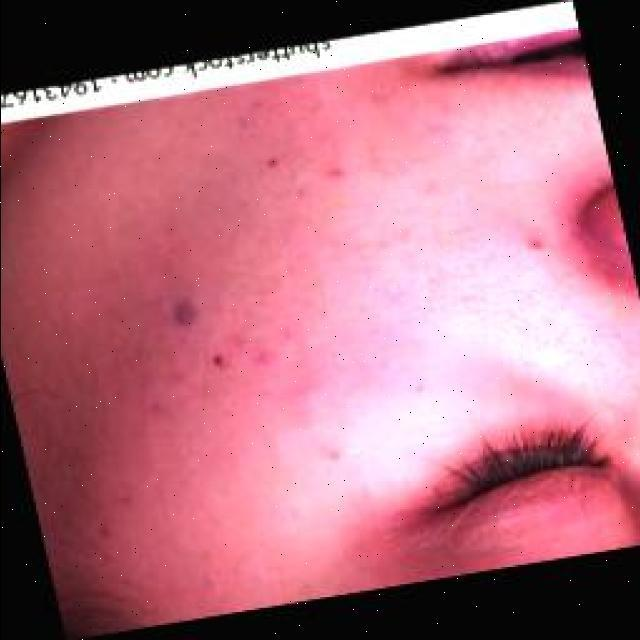Acne: (173, 299, 342, 469)
